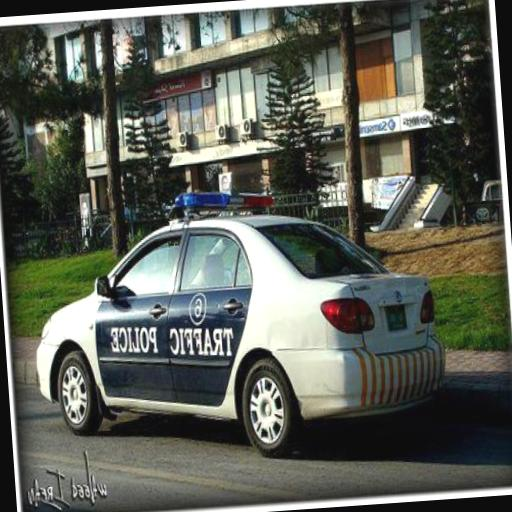Ambulance: (22, 160, 448, 466)
